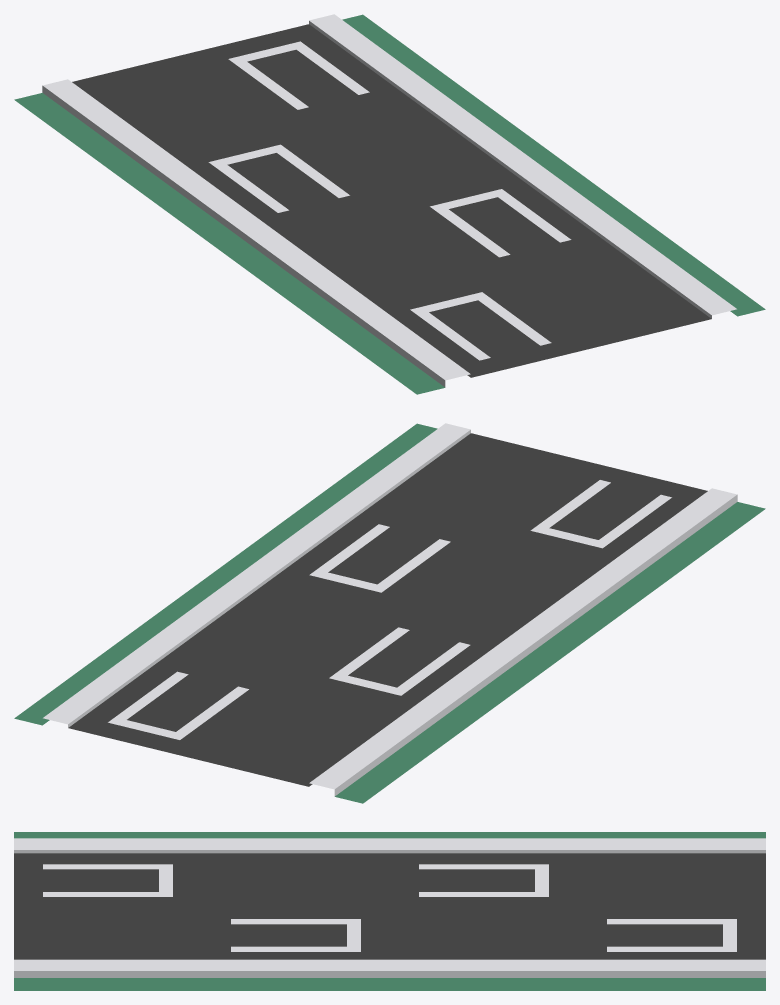
Rendered from roadStartPositions.glb.
3 renders of one model, top to bottom at view 1: azimuth 30°, elevation 25°; view 2: azimuth 150°, elevation 25°; view 3: azimuth 270°, elevation 25°, orthographic. The views are drawn at different scales.
Parts seen in each view (by area): view 1: roadStartPositions; view 2: roadStartPositions; view 3: roadStartPositions.
Part boxes in pixels (box(x1,y1,x2,y2)): roadStartPositions: box(14, 14, 765, 394); roadStartPositions: box(14, 423, 765, 803); roadStartPositions: box(14, 832, 765, 990).
Size of the model in its own units: 1 by 0.02 by 2.
